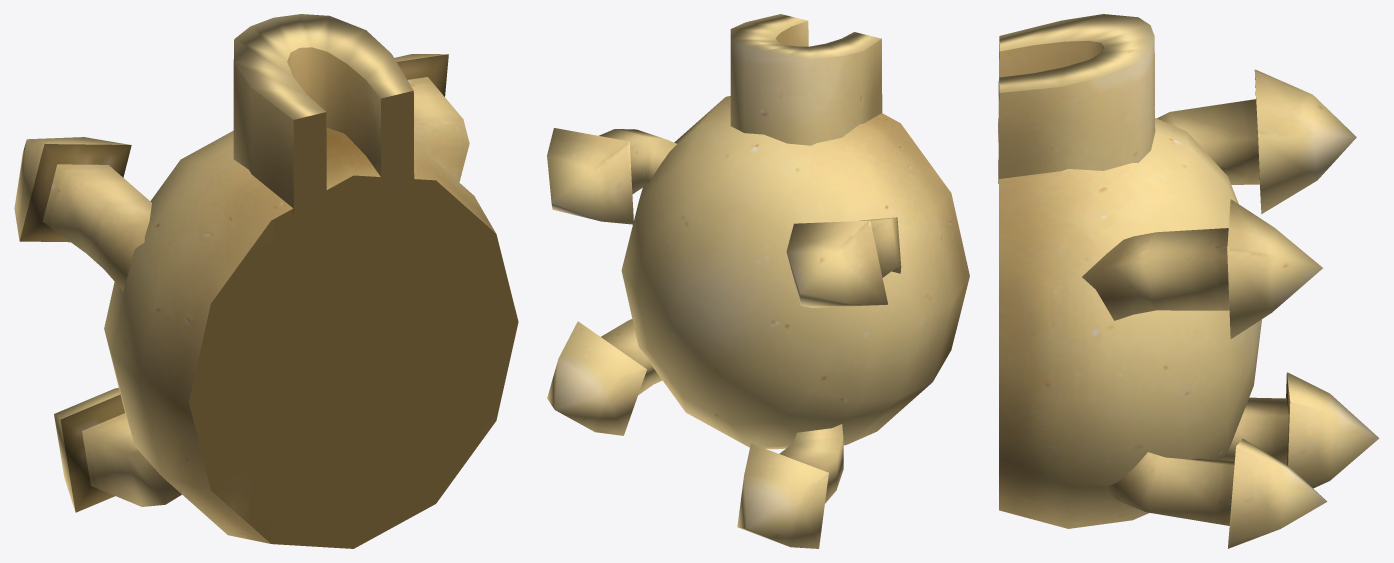
File: CovesSandCastle.fbx
3 views of the same model, side by side, from view 1: azimuth 30°, elevation 25°; view 2: azimuth 150°, elevation 25°; view 3: azimuth 270°, elevation 25° (orthographic). The views are drawn at different scales.
Parts seen in each view (by area): view 1: Sandcastle; view 2: Sandcastle; view 3: Sandcastle.
Part boxes in pixels (x1,y1,x2,y2): Sandcastle: [14, 14, 518, 548]; Sandcastle: [547, 14, 969, 548]; Sandcastle: [998, 14, 1379, 548].
Size of the model in its own units: 95.74 by 113 by 78.65.
